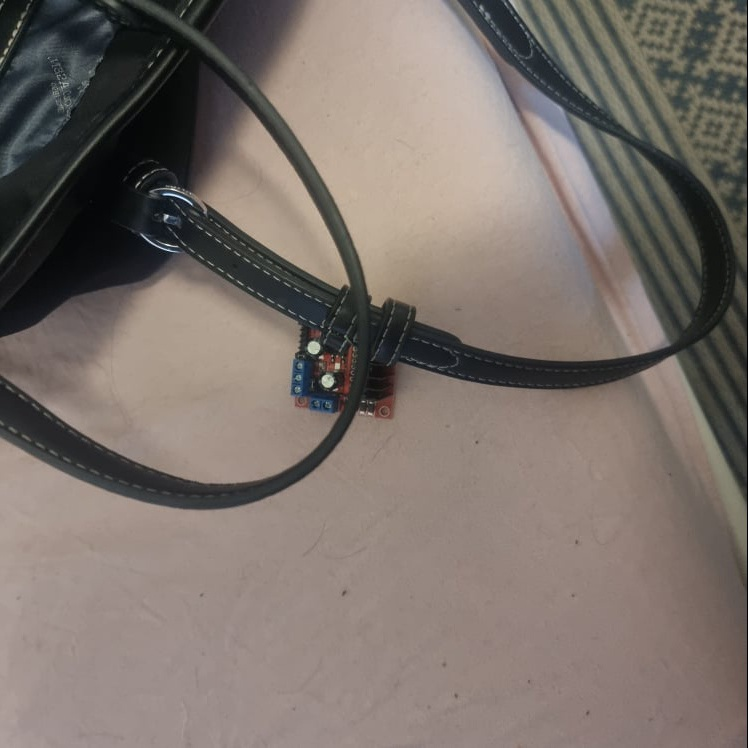MOTOR: (291, 317, 399, 419)
